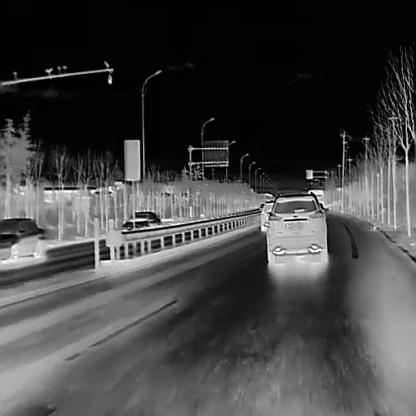bus: (307, 188, 323, 214)
car: (265, 190, 328, 263), (0, 215, 46, 260), (120, 210, 162, 236), (259, 199, 275, 232)
